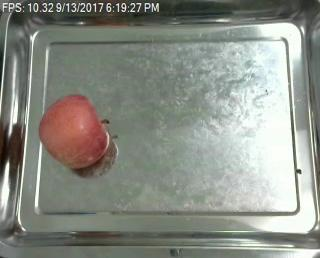apple: (39, 94, 111, 171)
